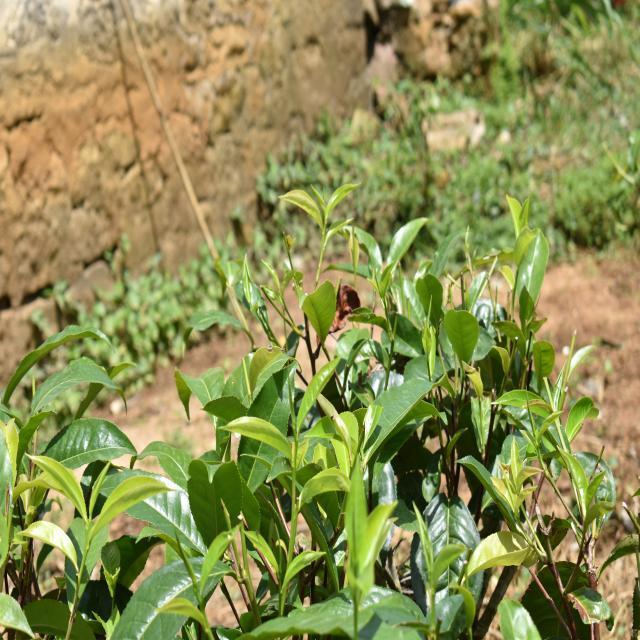Stem: (86, 525, 90, 533), (294, 440, 298, 447), (322, 227, 326, 233), (536, 445, 539, 453)
